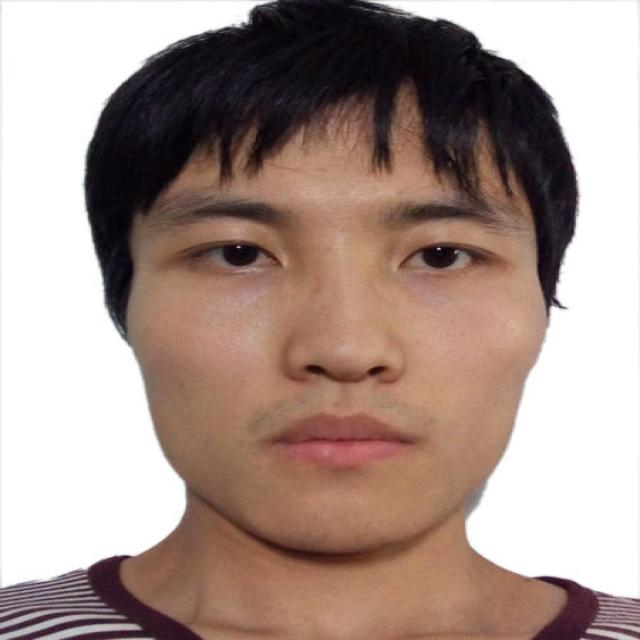Open: (394, 235, 512, 280), (181, 237, 283, 275)
